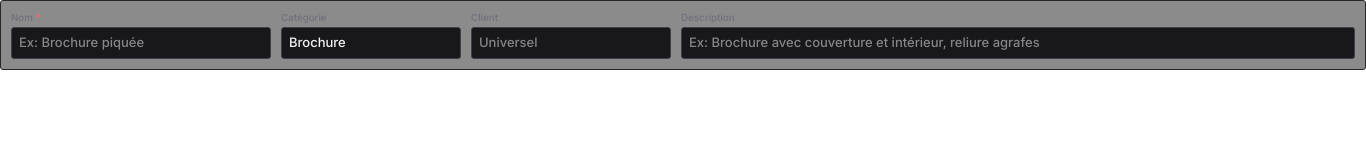
Test: JcfTemplateHeaderForm › session learning › does not duplicate existing categories
The image size is (1366, 160).
Step 1. Focus the field labelled "Catégorie" → (371, 43), box [281,27,461,58]
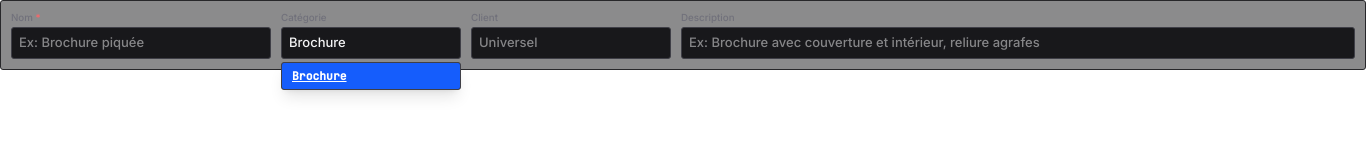
Result: the text "Brochure" is shown once at [292,68,346,82]
